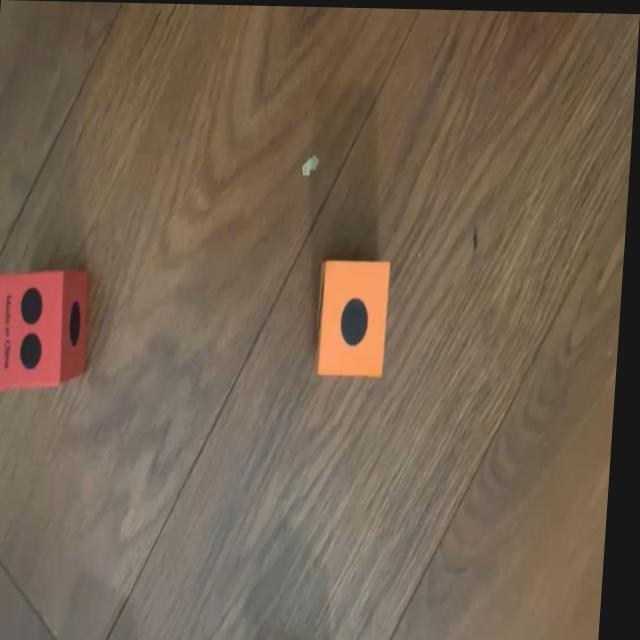red_block: (0, 266, 95, 394)
